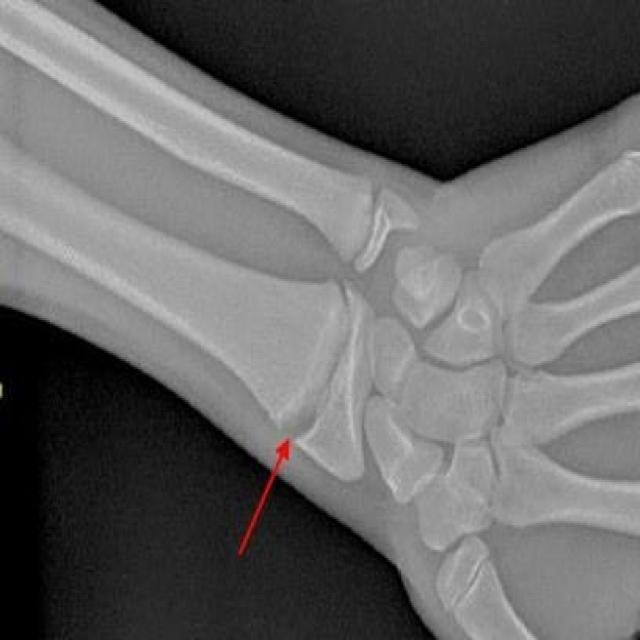bone: (269, 376, 329, 454)
